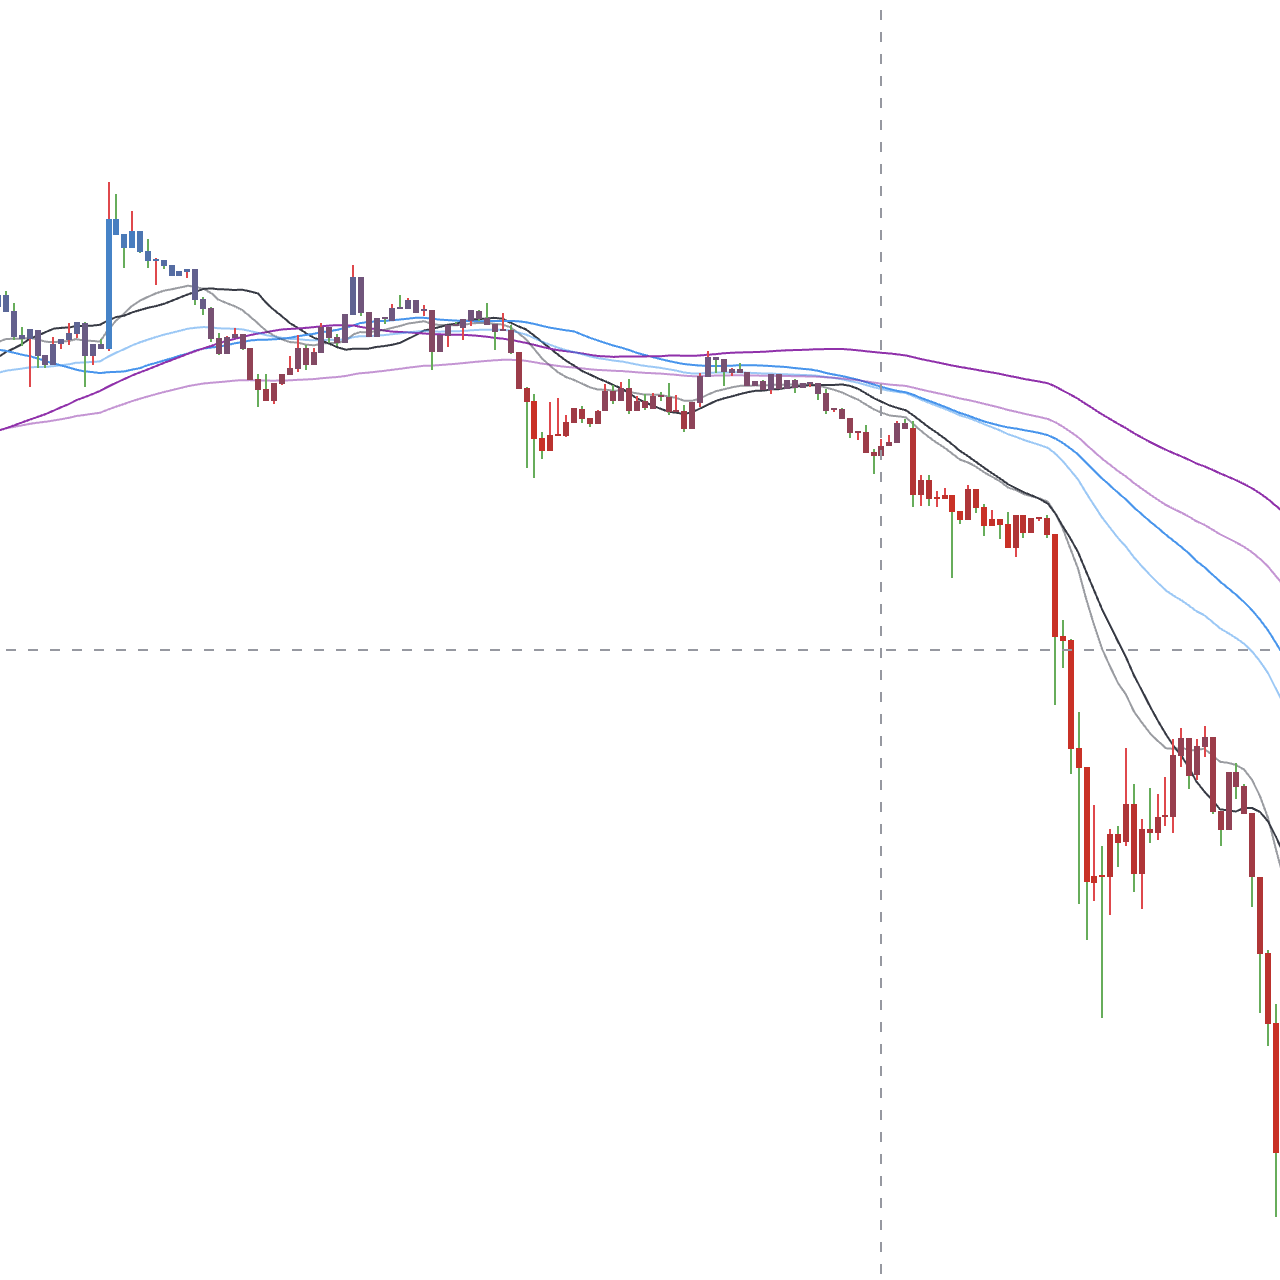ma_cluster: (469, 292, 662, 425)
